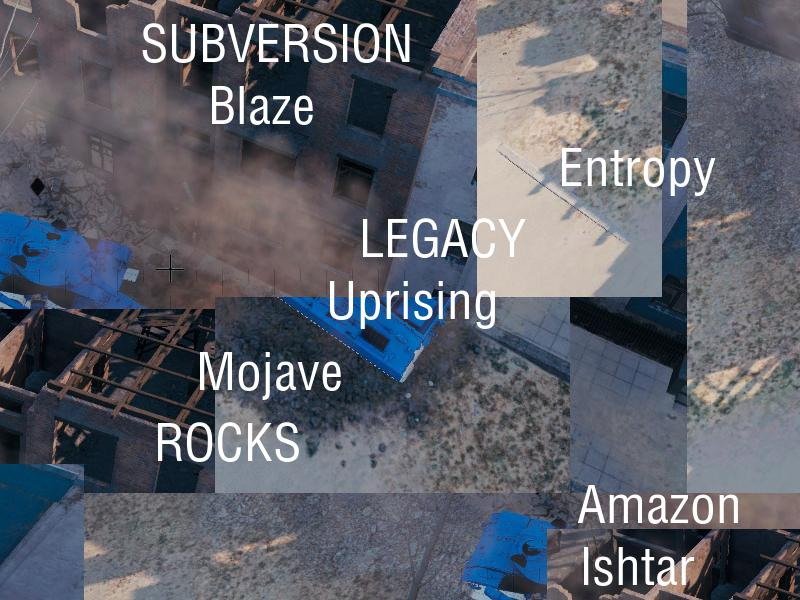line: (325, 281, 494, 328), (139, 23, 336, 62), (557, 148, 715, 195), (195, 352, 340, 399), (358, 218, 525, 257), (576, 485, 737, 523), (153, 422, 298, 461), (579, 547, 694, 585), (207, 86, 312, 124)
